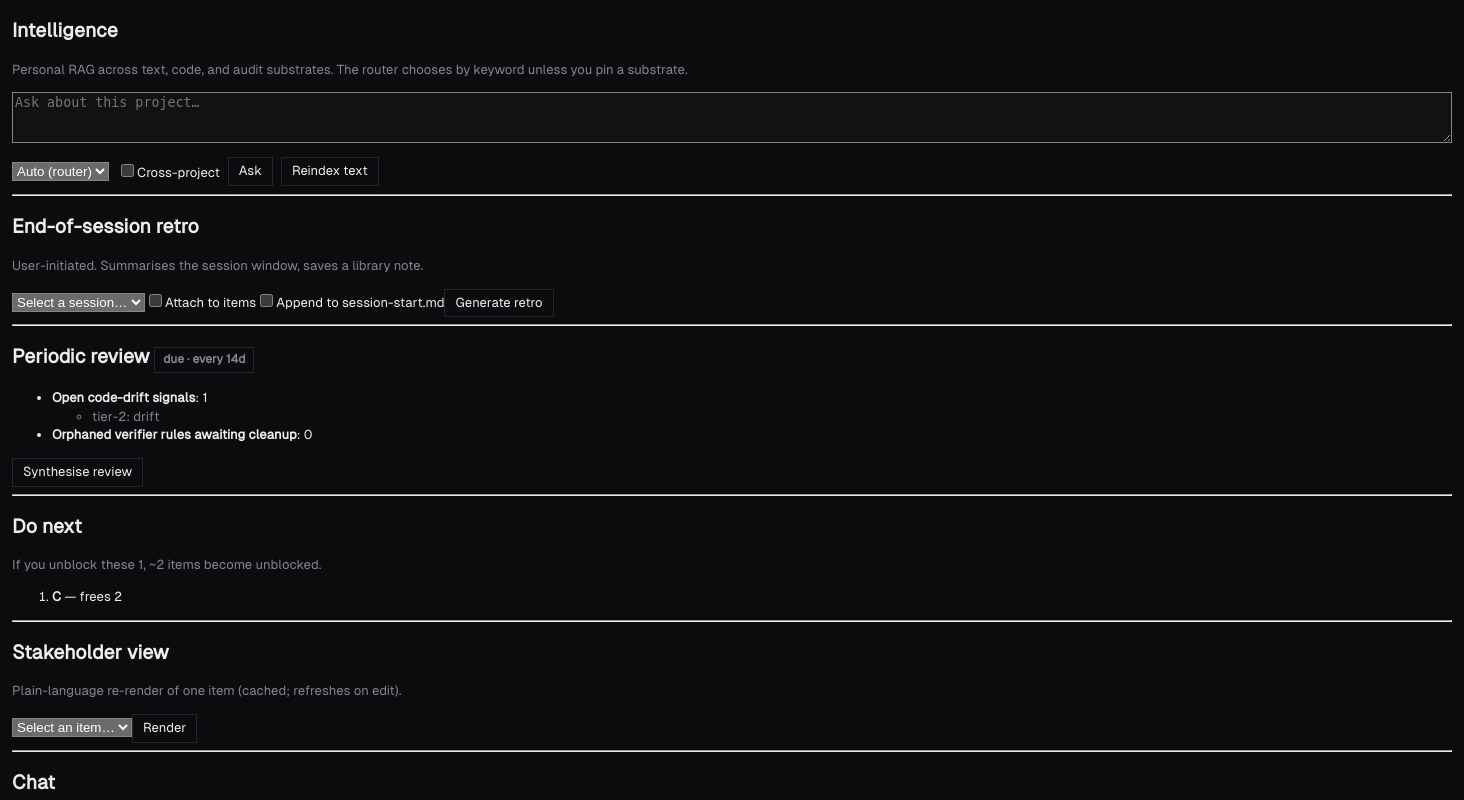
Test case: Phase 14 — Intelligence (RAG) surface › loads periodic-review hygiene buckets and synthesises on demand
This screenshot has width=1464, height=800.
Expected: the element with test id "periodic-review" is shown, [12,390,312,487]
Expected: the text with test id "review-due" shows "due", [163,352,184,366]
Click the button with test id "review-synth" at (78, 473), box [12,458,143,487]
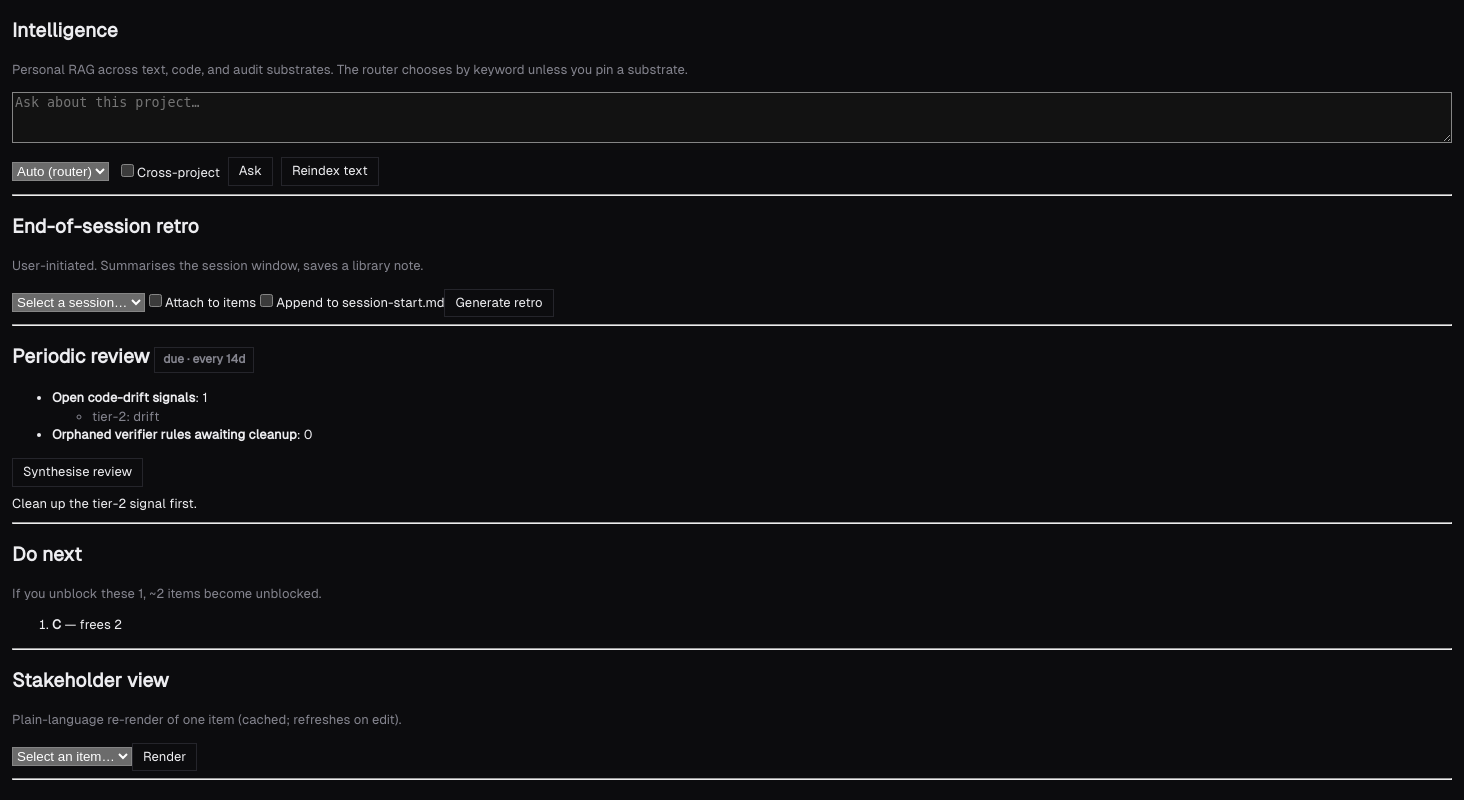
Now the text with test id "review-synthesis" shows "tier-2", box [12,496,197,511]
